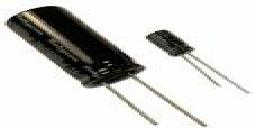Electrolytic Capacitor: (5, 5, 144, 101), (145, 29, 254, 95)
